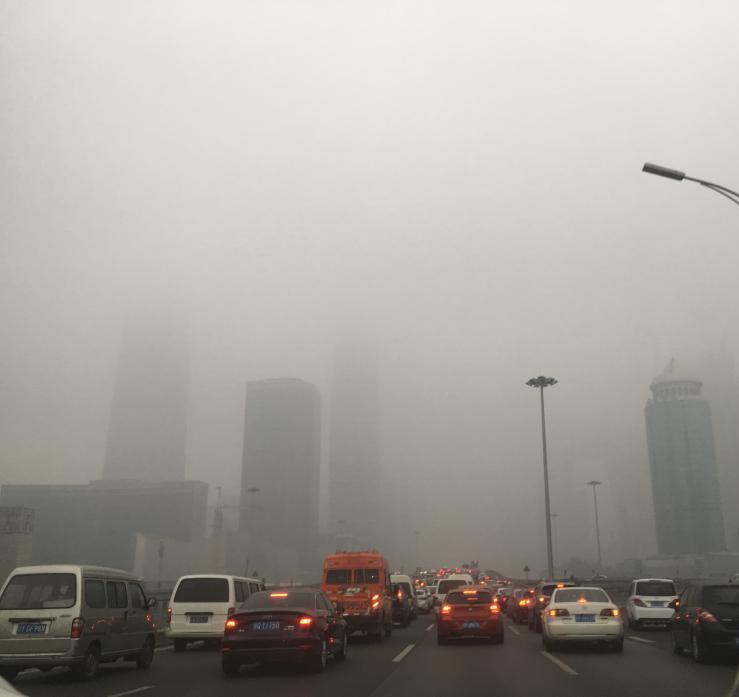car: (1, 561, 155, 677), (220, 586, 350, 671), (165, 573, 267, 652), (537, 584, 623, 651), (669, 578, 739, 659), (432, 586, 503, 646), (625, 576, 680, 629), (527, 580, 580, 633), (372, 582, 413, 628), (432, 577, 472, 621), (384, 574, 417, 620), (510, 585, 542, 627)
